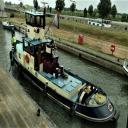tugboat: (10, 1, 121, 128)
